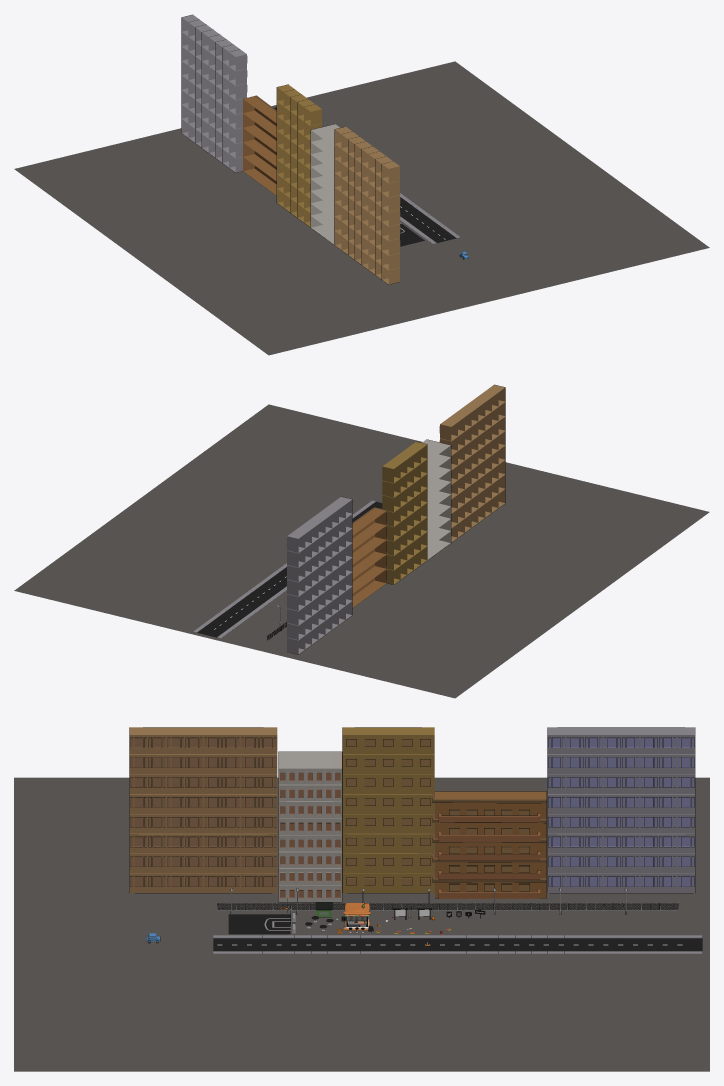
The model's file is Chad_Cafe.glb.
3 views of the same model, one above another, from view 1: azimuth 30°, elevation 25°; view 2: azimuth 150°, elevation 25°; view 3: azimuth 270°, elevation 25° (orthographic). The views are drawn at different scales.
Visible parts, largest first — view 1: Bg; view 2: Bg; view 3: Bg, Chad_Cafe.
Part boxes in pixels (x1,y1,x2,y2): Bg: [14, 14, 709, 355]; Bg: [14, 384, 709, 698]; Bg: [14, 727, 709, 1071]; Chad_Cafe: [336, 902, 373, 933].
Bounding box in the file's own units: 128 × 32.37 × 128.
106 materials, 6 textured.
